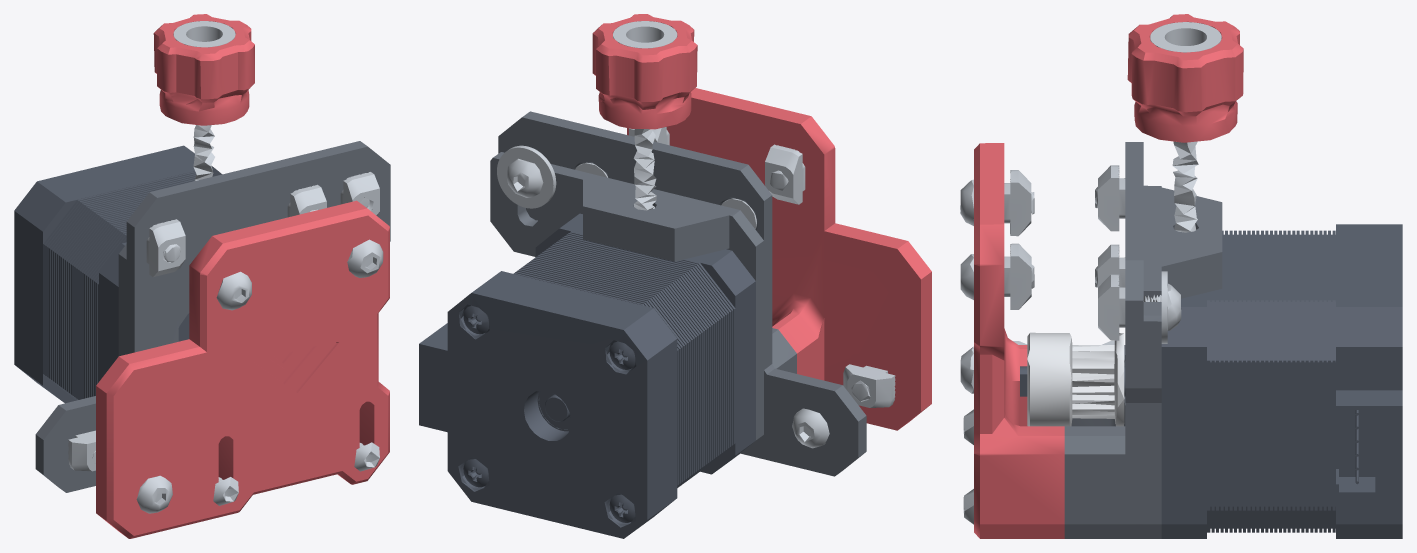
3 renders of one model, left to right at view 1: azimuth 30°, elevation 25°; view 2: azimuth 150°, elevation 25°; view 3: azimuth 270°, elevation 25°, orthographic. The views are drawn at different scales.
Parts seen in each view (by area): view 1: x_motor_mount_part_b__to, x_motor_mount_part_a, copy_of_nema17_stepper_m_32, knob_mirror___2_, copy_of_nema17_stepper_m, m4_t-nut_for_2020_extrus_11, cap_mirror___2_, motor_plate, m4_t-nut_for_2020_extrus_22, m4_10mm_button_head_v1_24, m4_10mm_button_head_v1_25, m4_10mm_button_head_v1_26 (+25 smaller); view 2: copy_of_nema17_stepper_m_32, x_motor_mount_part_b__to, x_motor_mount_part_a, motor_plate, knob_mirror___2_, copy_of_nema17_stepper_m, m4_12mm_1mmwasher_v3, m4_t-nut_for_2020_extrus_14, m4_t-nut_for_2020_extrus_12, m4_30mm_set_screw_v1, cap_mirror___2_, m4_8mm_button_head_v1 (+29 smaller); view 3: x_motor_mount_part_b__to, copy_of_nema17_stepper_m_33, copy_of_nema17_stepper_m_32, x_motor_mount_part_a, motor_plate, knob_mirror___2_, copy_of_nema17_stepper_m, gt2_20t_v1__1_, copy_of_nema17_stepper_m_71, m4_30mm_set_screw_v1, cap_mirror___2_, m4_t-nut_for_2020_extrus_22 (+37 smaller).
Boxes of the visible parts, x1,y1,x2,y2 form: x_motor_mount_part_b__to: (96,200,389,538); x_motor_mount_part_a: (35,141,390,492); copy_of_nema17_stepper_m_32: (14,145,222,403); knob_mirror___2_: (153,14,254,125); copy_of_nema17_stepper_m: (99,242,126,381); m4_t-nut_for_2020_extrus_11: (146,219,185,276); cap_mirror___2_: (173,21,235,47); motor_plate: (118,244,189,356); m4_t-nut_for_2020_extrus_22: (340,172,379,215); m4_10mm_button_head_v1_24: (136,475,172,513); m4_10mm_button_head_v1_25: (347,239,383,277); m4_10mm_button_head_v1_26: (216,271,251,310); copy_of_nema17_stepper_m_32: (419,271,677,538); x_motor_mount_part_b__to: (627,88,931,430); x_motor_mount_part_a: (498,111,866,476); motor_plate: (490,152,763,456); knob_mirror___2_: (592,14,697,129); copy_of_nema17_stepper_m: (535,213,755,474); m4_12mm_1mmwasher_v3: (497,145,556,208); m4_t-nut_for_2020_extrus_14: (765,144,805,204); m4_t-nut_for_2020_extrus_12: (843,364,895,407); m4_30mm_set_screw_v1: (633,129,656,210); cap_mirror___2_: (613,21,677,48); m4_8mm_button_head_v1: (792,408,829,448); x_motor_mount_part_b__to: (974,143,1064,538); copy_of_nema17_stepper_m_33: (1210,234,1335,528); copy_of_nema17_stepper_m_32: (1336,224,1402,538); x_motor_mount_part_a: (1064,142,1143,538); motor_plate: (1143,185,1222,538); knob_mirror___2_: (1127,14,1243,142); copy_of_nema17_stepper_m: (1161,292,1206,538); gt2_20t_v1__1_: (1027,332,1124,426); copy_of_nema17_stepper_m_71: (1336,407,1378,495); m4_30mm_set_screw_v1: (1172,141,1198,232); cap_mirror___2_: (1150,22,1221,52); m4_t-nut_for_2020_extrus_22: (1098,274,1125,340).
Bounding box in the file's own units: 0.0763 × 0.0839 × 0.0731.
